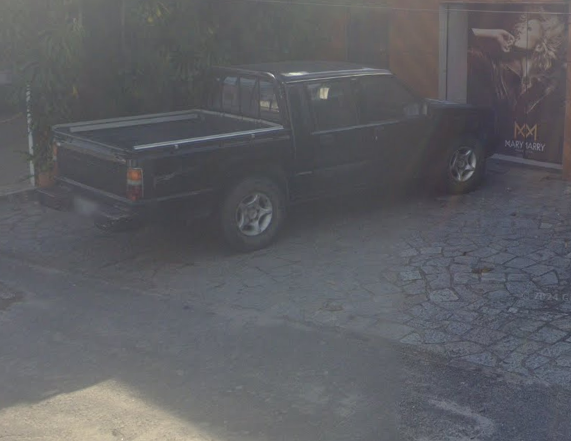car: (35, 58, 492, 253)
